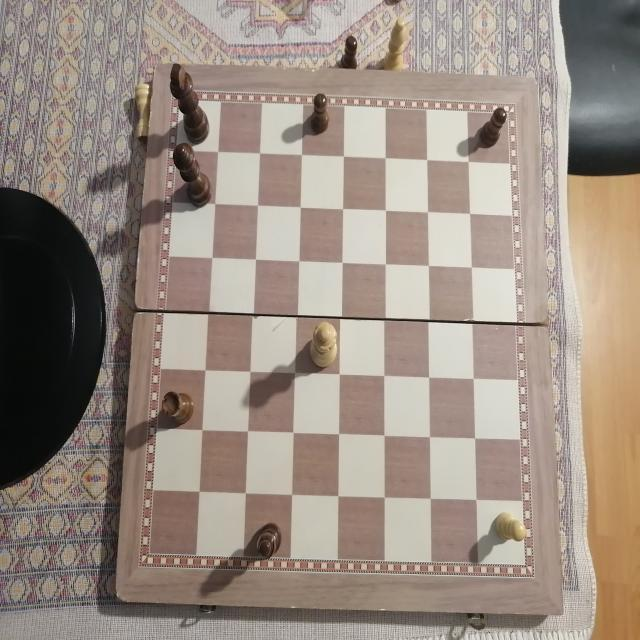corners: (520, 65, 544, 94), (145, 55, 168, 83), (102, 585, 128, 609), (548, 600, 570, 627)
